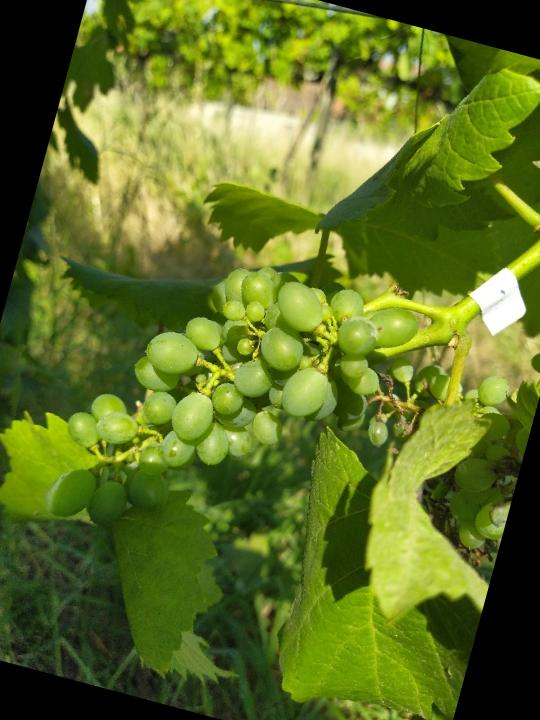grape: (22, 211, 446, 610)
